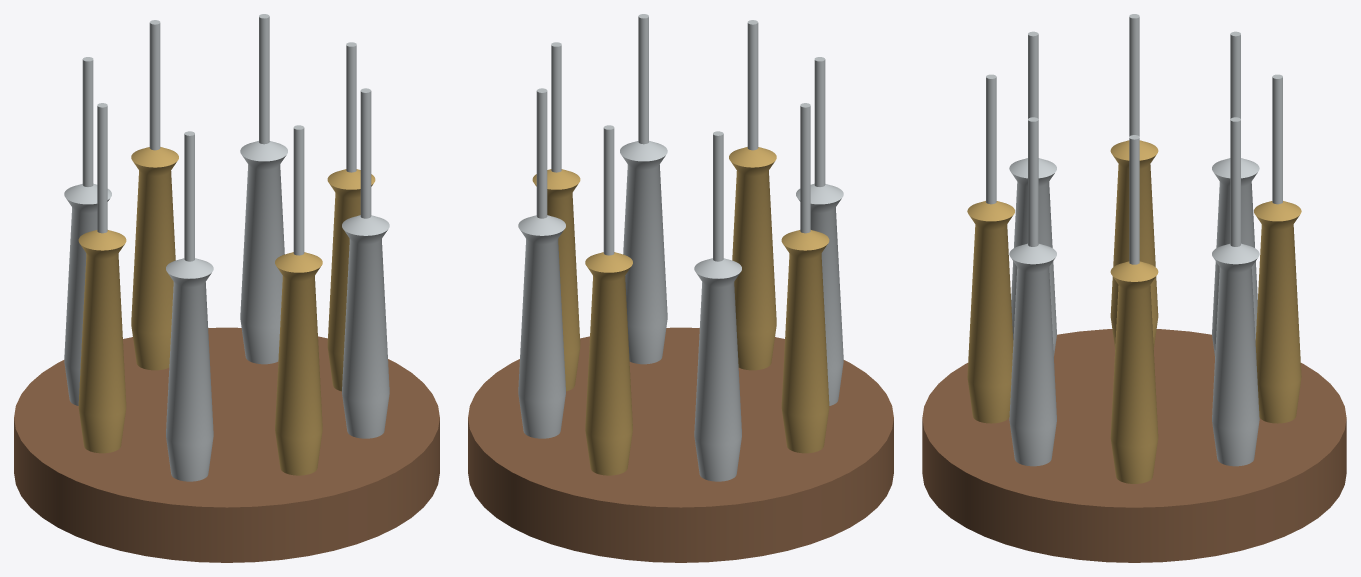
Rendered from clockmaker-and-watch-repair-precision-screwdriver-rack-df6d6e33__30608.glb.
3 views of the same model, side by side, from view 1: azimuth 30°, elevation 25°; view 2: azimuth 150°, elevation 25°; view 3: azimuth 270°, elevation 25° (orthographic).
Parts seen in each view (by area): view 1: precision-screwdriver-rack; view 2: precision-screwdriver-rack; view 3: precision-screwdriver-rack.
Boxes of the visible parts, box(x1,y1,x2,y2) form: precision-screwdriver-rack: box(14, 14, 439, 562); precision-screwdriver-rack: box(468, 14, 893, 562); precision-screwdriver-rack: box(922, 14, 1346, 562).
Size of the model in its own units: 0.16 by 0.165 by 0.16.
